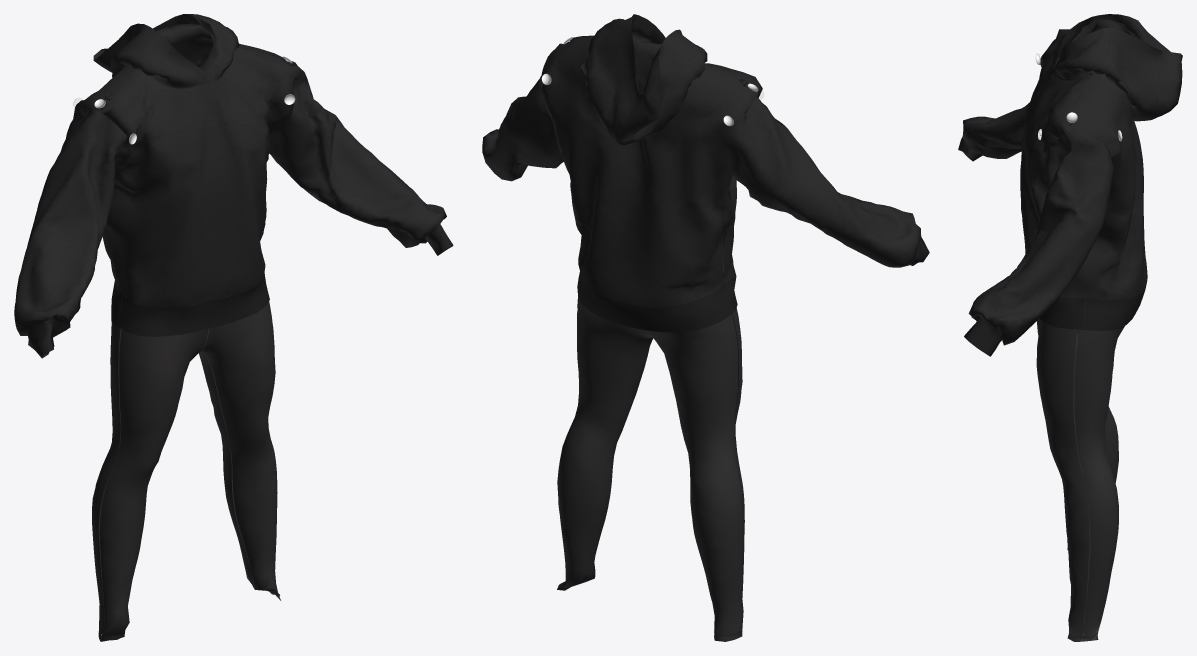
File: truitestbobsprint4.fbx
3 renders of one model, left to right at view 1: azimuth 30°, elevation 25°; view 2: azimuth 150°, elevation 25°; view 3: azimuth 270°, elevation 25°, orthographic. The views are drawn at different scales.
Parts seen in each view (by area): view 1: Paige hoodie 带帽衫版本A产前样更新_前片_1, 前面, Paige hoodie 带帽衫版本A产前样更新_袖子_2, 前面_1, Paige hoodie 带帽衫版本A产前样更新_袖子_1, Paige hoodie 带帽衫版本A产前样更新_下摆罗文_2, Paige hoodie 带帽衫版本A产前样更新_帽子_1, 后面, Paige hoodie 带帽衫版本A产前样更新_后片_1, 后面_1, Paige hoodie 带帽衫版本A产前样更新_帽子, Paige hoodie 带帽衫版本A产前样更新_袖口罗文_2 (+1 smaller); view 2: Paige hoodie 带帽衫版本A产前样更新_后片_1, 后面, 后面_1, Paige hoodie 带帽衫版本A产前样更新_袖子_2, Paige hoodie 带帽衫版本A产前样更新_帽子, Paige hoodie 带帽衫版本A产前样更新_袖子_1, Paige hoodie 带帽衫版本A产前样更新_下摆罗文_1, Paige hoodie 带帽衫版本A产前样更新_帽子_1, Paige hoodie 带帽衫版本A产前样更新_帽子_3, Paige hoodie 带帽衫版本A产前样更新_前片_1, 前面, Paige hoodie 带帽衫版本A产前样更新_帽子_2; view 3: Paige hoodie 带帽衫版本A产前样更新_袖子_1, Paige hoodie 带帽衫版本A产前样更新_后片_1, 后面_1, 前面_1, Paige hoodie 带帽衫版本A产前样更新_帽子, Paige hoodie 带帽衫版本A产前样更新_前片_1, Paige hoodie 带帽衫版本A产前样更新_袖子_2, Paige hoodie 带帽衫版本A产前样更新_下摆罗文_1, Paige hoodie 带帽衫版本A产前样更新_帽子_3, Paige hoodie 带帽衫版本A产前样更新_下摆罗文_2, Paige hoodie 带帽衫版本A产前样更新_袖口罗文_1, 后面.
Part boxes in pixels (<box>): Paige hoodie 带帽衫版本A产前样更新_前片_1: <box>100,47,300,307</box>; 前面: <box>99,297,211,641</box>; Paige hoodie 带帽衫版本A产前样更新_袖子_2: <box>14,108,126,337</box>; 前面_1: <box>199,295,280,600</box>; Paige hoodie 带帽衫版本A产前样更新_袖子_1: <box>269,64,446,247</box>; Paige hoodie 带帽衫版本A产前样更新_下摆罗文_2: <box>117,272,269,336</box>; Paige hoodie 带帽衫版本A产前样更新_帽子_1: <box>93,23,211,86</box>; 后面: <box>92,286,126,641</box>; Paige hoodie 带帽衫版本A产前样更新_后片_1: <box>73,37,297,293</box>; 后面_1: <box>198,328,276,595</box>; Paige hoodie 带帽衫版本A产前样更新_帽子: <box>104,14,239,84</box>; Paige hoodie 带帽衫版本A产前样更新_袖口罗文_2: <box>18,314,61,358</box>; Paige hoodie 带帽衫版本A产前样更新_后片_1: <box>541,37,758,307</box>; 后面: <box>643,314,743,641</box>; 后面_1: <box>557,296,652,590</box>; Paige hoodie 带帽衫版本A产前样更新_袖子_2: <box>732,96,921,267</box>; Paige hoodie 带帽衫版本A产前样更新_帽子: <box>586,14,664,144</box>; Paige hoodie 带帽衫版本A产前样更新_袖子_1: <box>482,50,563,181</box>; Paige hoodie 带帽衫版本A产前样更新_下摆罗文_1: <box>577,272,730,332</box>; Paige hoodie 带帽衫版本A产前样更新_帽子_1: <box>617,29,707,145</box>; Paige hoodie 带帽衫版本A产前样更新_帽子_3: <box>635,31,673,119</box>; Paige hoodie 带帽衫版本A产前样更新_前片_1: <box>565,35,762,283</box>; 前面: <box>722,246,744,627</box>; Paige hoodie 带帽衫版本A产前样更新_帽子_2: <box>581,14,665,111</box>; Paige hoodie 带帽衫版本A产前样更新_袖子_1: <box>968,132,1113,345</box>; Paige hoodie 带帽衫版本A产前样更新_后片_1: <box>1070,72,1147,300</box>; 后面_1: <box>1073,259,1124,641</box>; 前面_1: <box>1036,297,1089,641</box>; Paige hoodie 带帽衫版本A产前样更新_帽子: <box>1053,27,1182,121</box>; Paige hoodie 带帽衫版本A产前样更新_前片_1: <box>1020,29,1091,297</box>; Paige hoodie 带帽衫版本A产前样更新_袖子_2: <box>962,72,1092,158</box>; Paige hoodie 带帽衫版本A产前样更新_下摆罗文_1: <box>1084,284,1146,330</box>; Paige hoodie 带帽衫版本A产前样更新_帽子_3: <box>1053,14,1170,68</box>; Paige hoodie 带帽衫版本A产前样更新_下摆罗文_2: <box>1039,297,1085,329</box>; Paige hoodie 带帽衫版本A产前样更新_袖口罗文_1: <box>964,316,1004,356</box>; 后面: <box>1077,329,1118,482</box>.
Size of the model in its own units: 107 by 143 by 49.83.
Materials: 5 (4 with a texture image).
